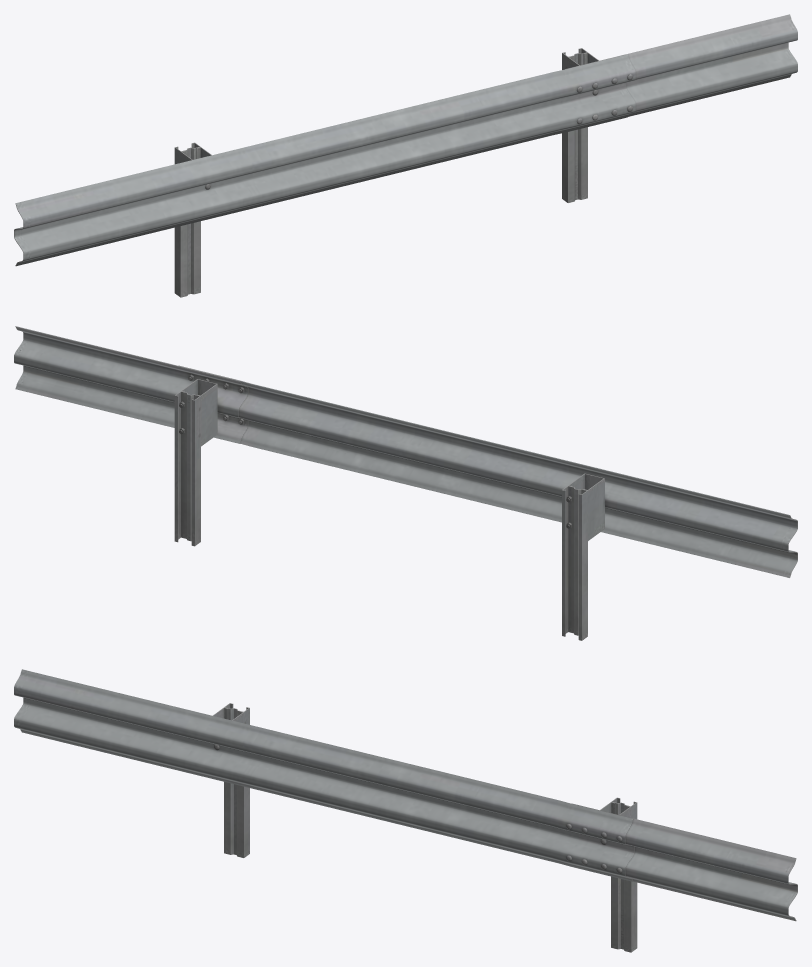
The model's file is g3-guard-rail.glb.
The picture shows the model from 3 angles, top to bottom: view 1: azimuth 30°, elevation 25°; view 2: azimuth 150°, elevation 25°; view 3: azimuth 330°, elevation 25°; orthographic projection.
Visible parts, largest first — view 1: guard-rail_body; view 2: guard-rail_body; view 3: guard-rail_body.
Part boxes in pixels (<box>): guard-rail_body: <box>14,14,797,297</box>; guard-rail_body: <box>14,326,797,640</box>; guard-rail_body: <box>14,669,797,952</box>.
Bounding box in the file's own units: 4 × 0.7539 × 0.3004.
1 material, 1 textured.
